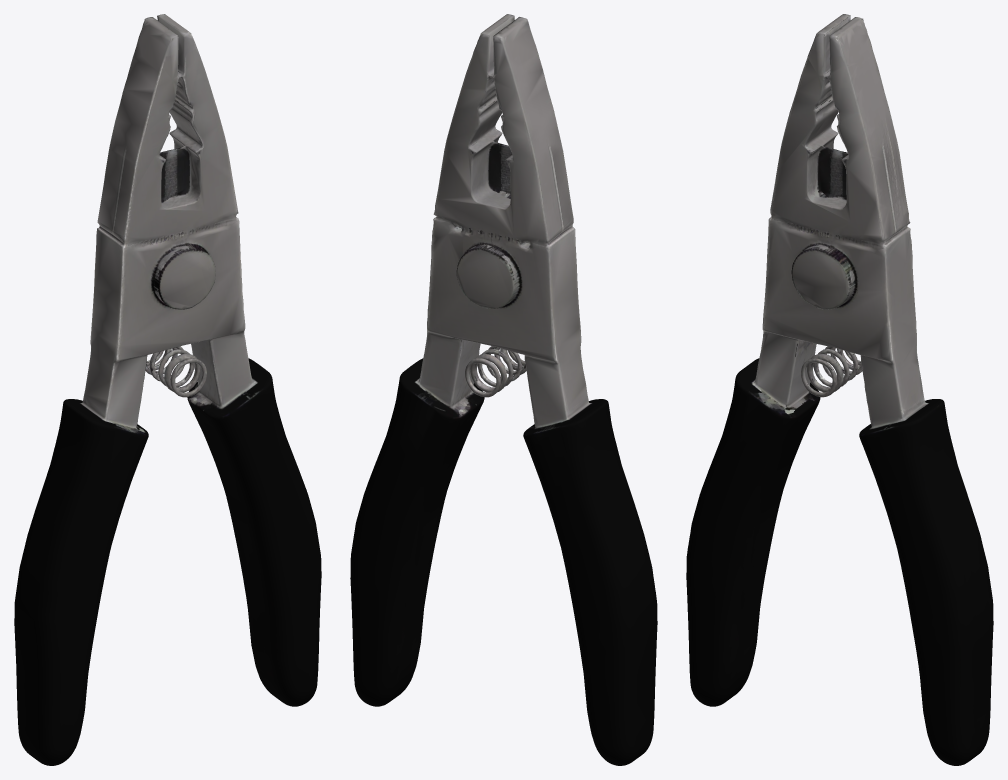
File: vet_equip_nail_clippers.glb
3 renders of one model, left to right at view 1: azimuth 30°, elevation 25°; view 2: azimuth 150°, elevation 25°; view 3: azimuth 330°, elevation 25°, orthographic.
Visible parts, largest first — view 1: model; view 2: model; view 3: model.
Part boxes in pixels (box(x1,y1,x2,y2)): model: box(14, 14, 321, 765); model: box(350, 14, 657, 765); model: box(686, 14, 993, 765).
Size of the model in its own units: 0.7996 by 1.9 by 0.2145.
Materials: 1 (1 with a texture image).
